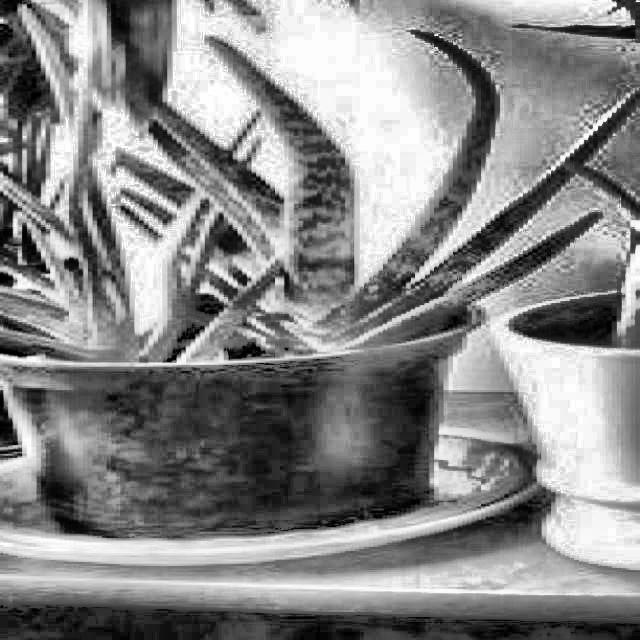plants: (0, 110, 482, 362)
